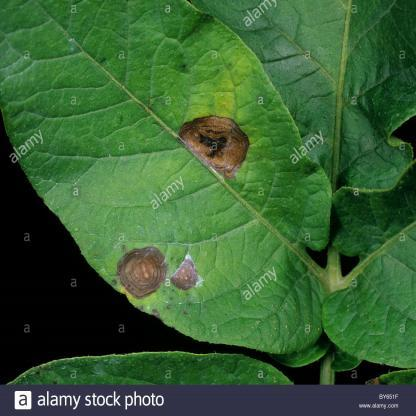Potato leaf late blight: (0, 2, 330, 356)
